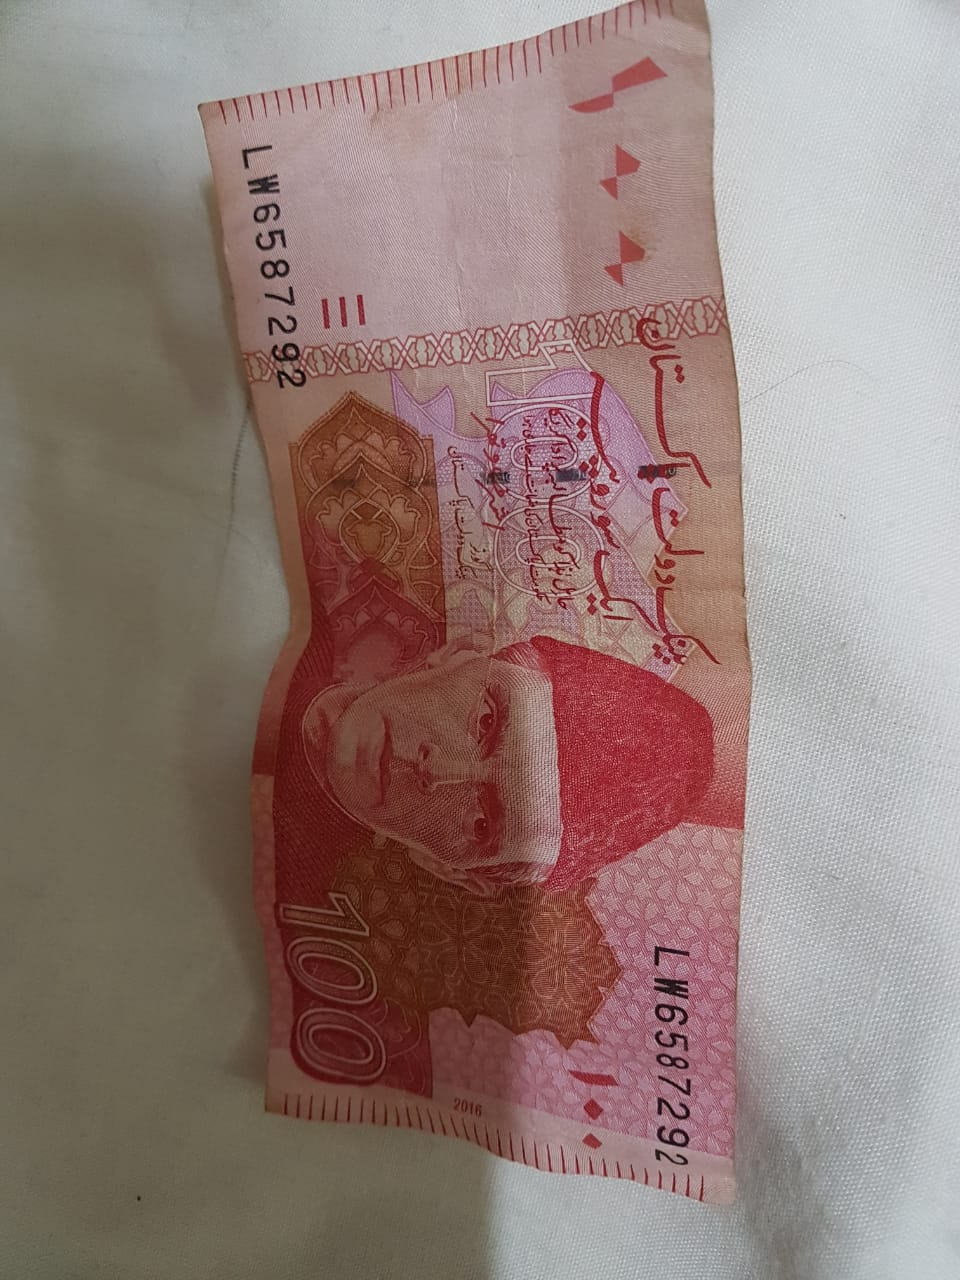100 rupee: (161, 8, 790, 1217)
